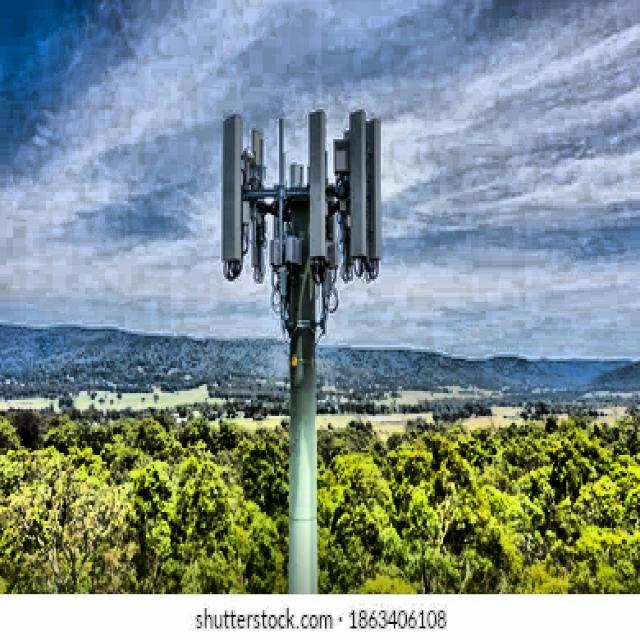antenna: (221, 111, 381, 418), (184, 47, 539, 183), (222, 114, 242, 279), (308, 110, 326, 258), (349, 110, 366, 262)
